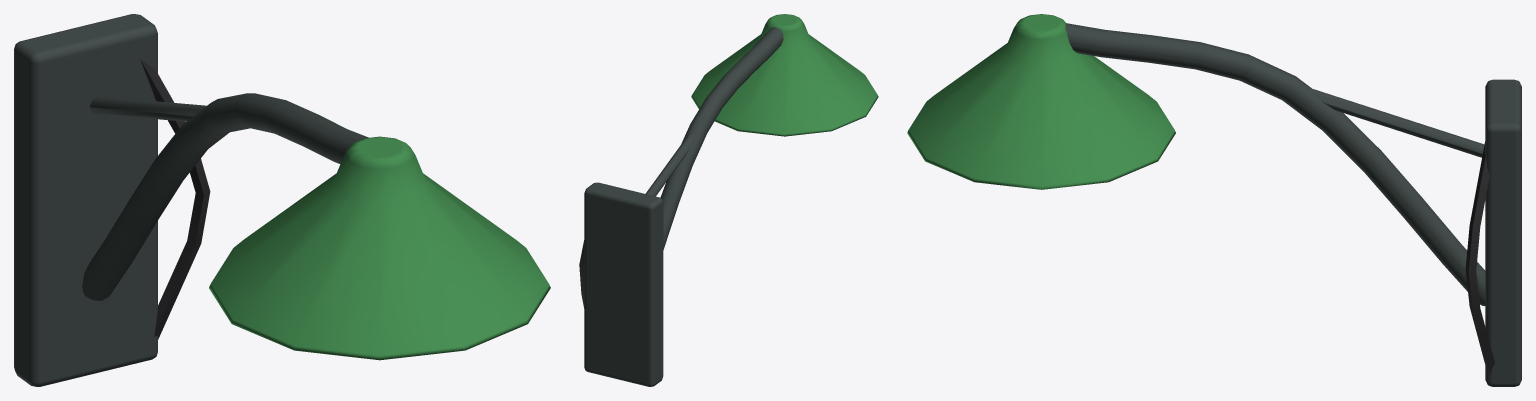
The model's file is prop_street_lamp_wall.glb.
3 renders of one model, left to right at view 1: azimuth 30°, elevation 25°; view 2: azimuth 150°, elevation 25°; view 3: azimuth 270°, elevation 25°, orthographic. The views are drawn at different scales.
Visible parts, largest first — view 1: prop_street_lamp_wall; view 2: prop_street_lamp_wall; view 3: prop_street_lamp_wall.
Part boxes in pixels (x1=…): prop_street_lamp_wall: x1=14, y1=14, x2=550, y2=386; prop_street_lamp_wall: x1=579, y1=14, x2=878, y2=386; prop_street_lamp_wall: x1=907, y1=14, x2=1521, y2=386.
Size of the model in its own units: 0.3697 by 0.52 by 0.8449.
